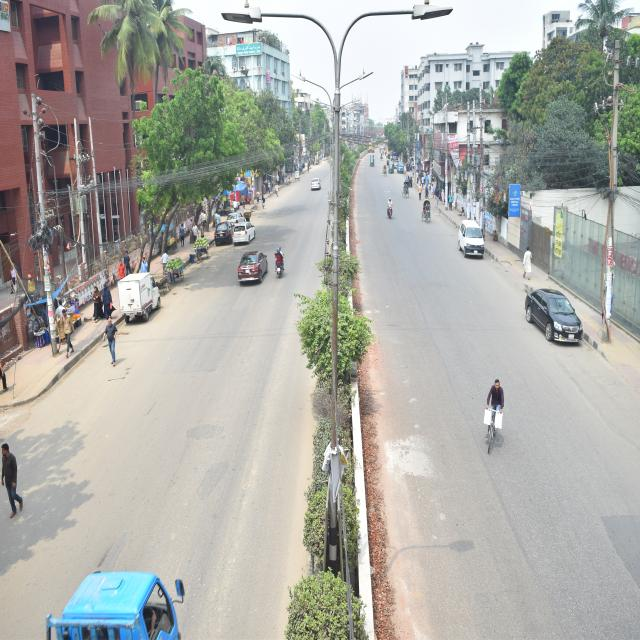car: (522, 287, 587, 350), (236, 248, 269, 289), (210, 216, 233, 248), (231, 220, 258, 244), (310, 176, 324, 194)
microbus: (456, 213, 486, 257)
motorbike: (274, 244, 288, 284), (383, 194, 397, 221)
pickup-van: (39, 565, 183, 639), (116, 273, 162, 324)
